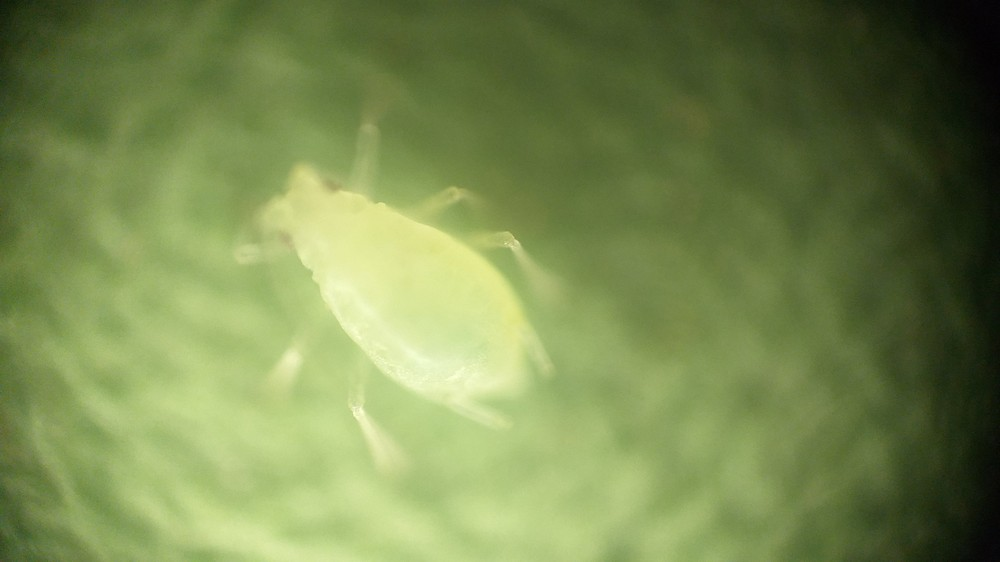Pulgon: (173, 76, 646, 504)
